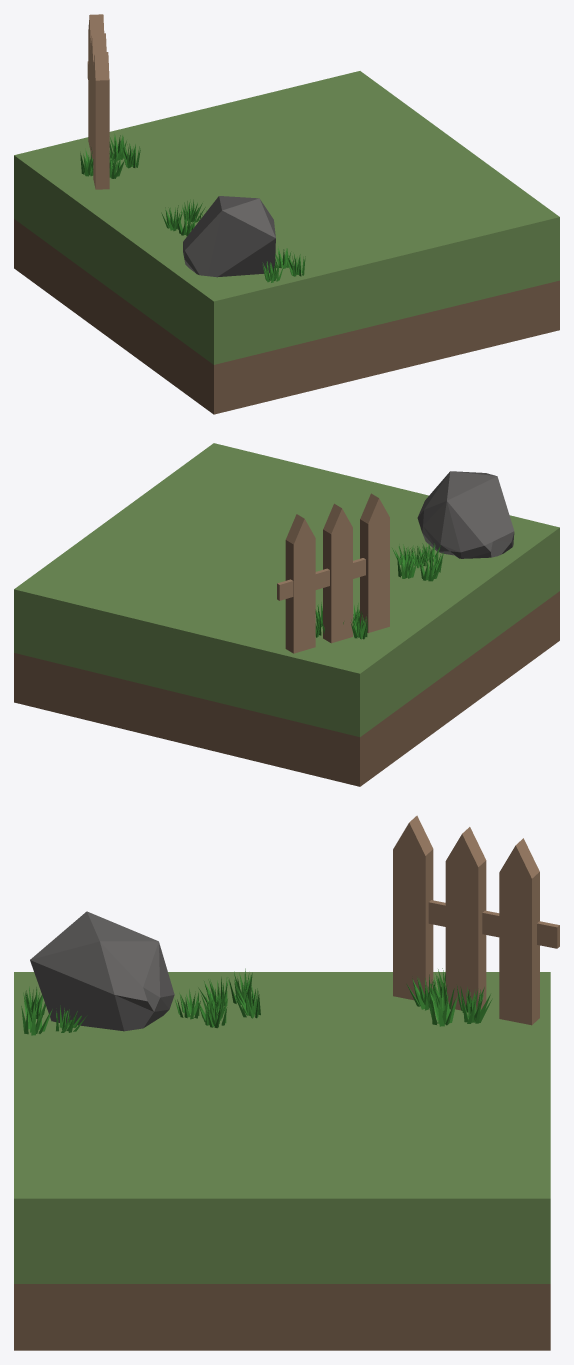
File: BLOC.fbx
3 renders of one model, top to bottom at view 1: azimuth 30°, elevation 25°; view 2: azimuth 150°, elevation 25°; view 3: azimuth 270°, elevation 25°, orthographic. The views are drawn at different scales.
Parts seen in each view (by area): view 1: BLOC; view 2: BLOC; view 3: BLOC.
Boxes of the visible parts, x1,y1,x2,y2 form: BLOC: (14,14,559,414); BLOC: (14,443,559,786); BLOC: (14,815,559,1350).
Size of the model in its own units: 359 by 243 by 366.
